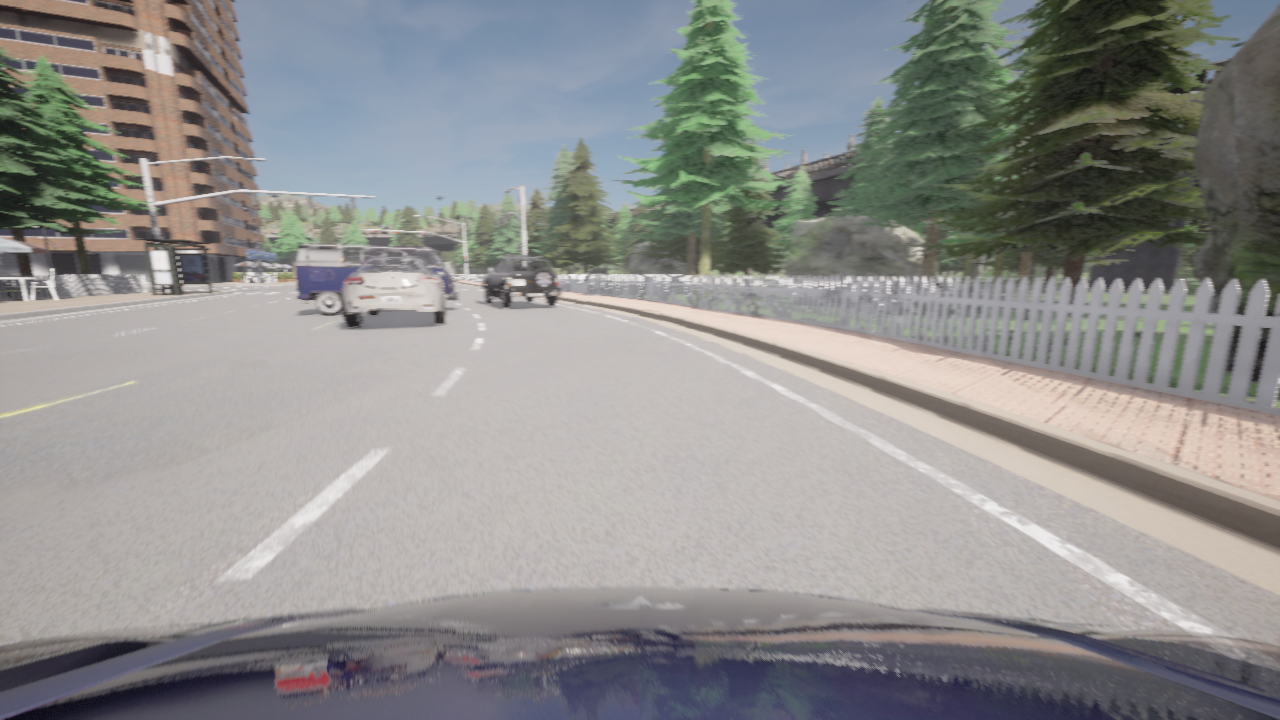cyclist: (0, 588, 1279, 719), (295, 244, 458, 315), (341, 256, 445, 327), (482, 255, 560, 307)
